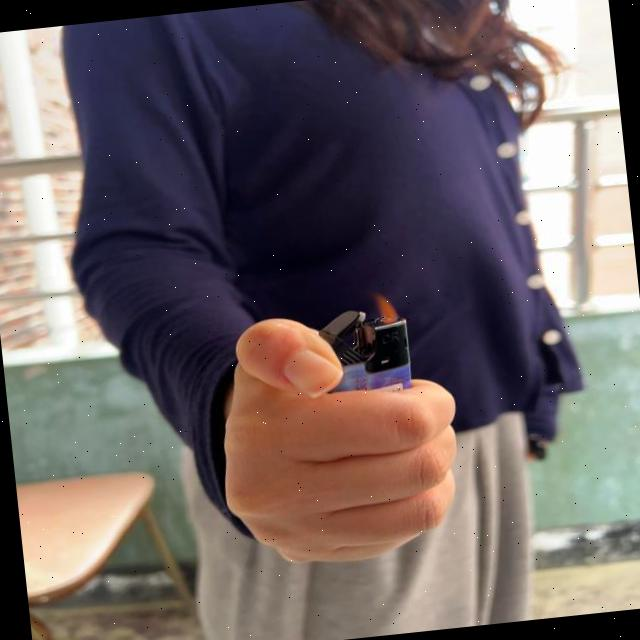fire: (368, 286, 402, 326)
